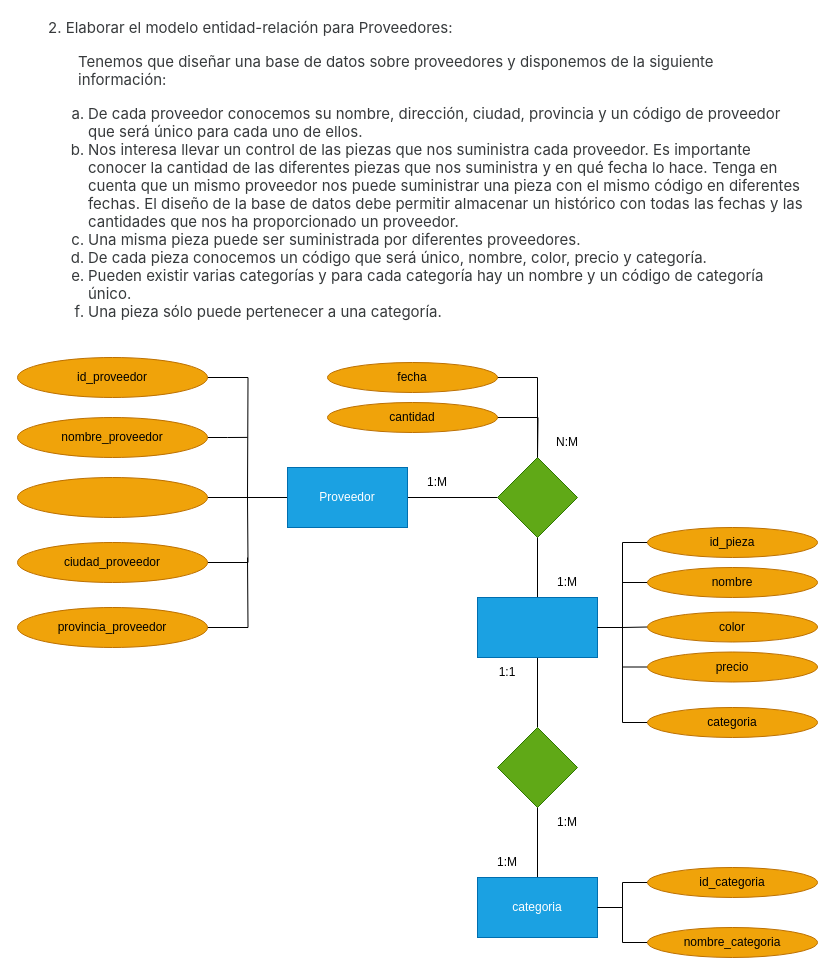
Image size: 835x975. Some labels were removed from this diagram. Here are the shapes that lost their labels. From the top down, the box of each, then its label:
(16, 476, 208, 518): direccion_proveedor
(496, 456, 578, 538): suministra
(476, 596, 598, 658): piezas
(496, 726, 578, 808): pertenece
